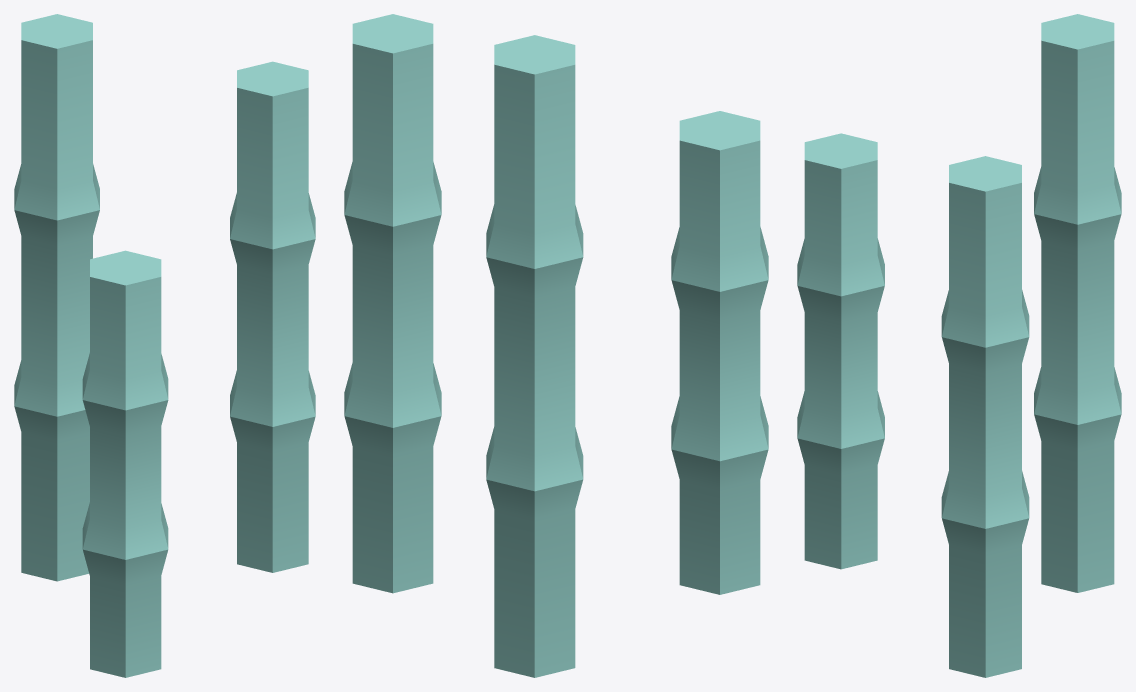
Rendered from bamboo.gltf.
3 views of the same model, side by side, from view 1: azimuth 30°, elevation 25°; view 2: azimuth 150°, elevation 25°; view 3: azimuth 270°, elevation 25° (orthographic). The views are drawn at different scales.
Visible parts, largest first — view 1: bamboo; view 2: bamboo; view 3: bamboo.
Part boxes in pixels (x1=…): bamboo: x1=14, y1=14, x2=315, y2=677; bamboo: x1=344, y1=14, x2=768, y2=677; bamboo: x1=797, y1=14, x2=1121, y2=677.
Bounding box in the file's own units: 0.3401 × 0.57 × 0.308.
